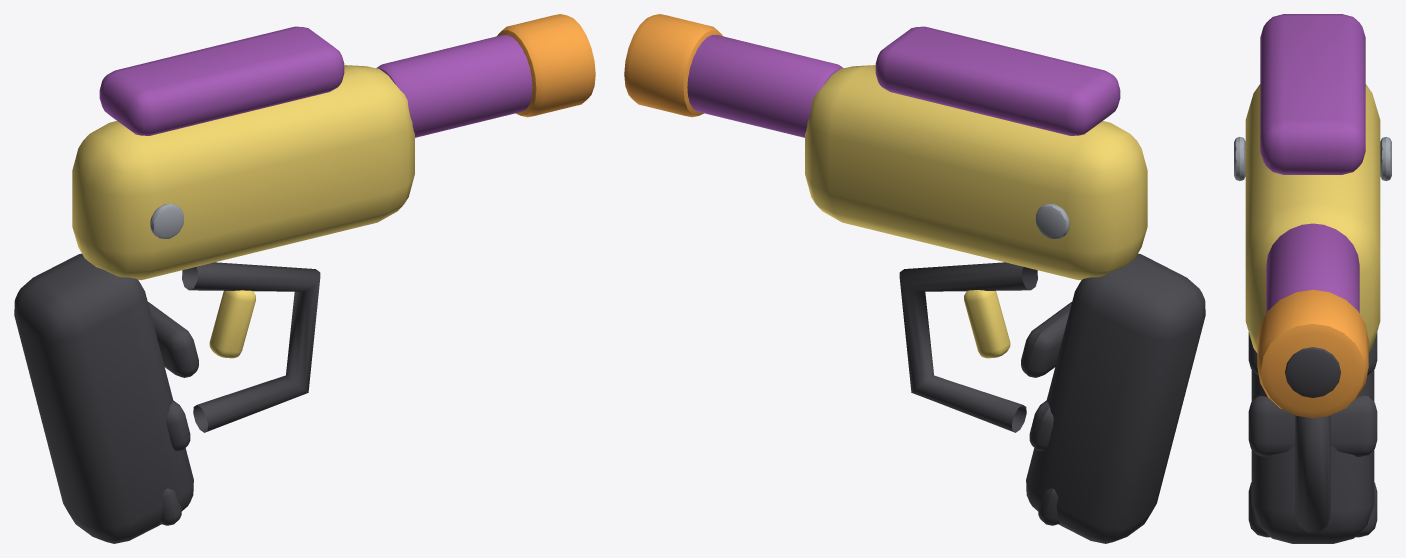
The model's file is dual.glb.
The picture shows the model from 3 angles, left to right: view 1: azimuth 30°, elevation 25°; view 2: azimuth 150°, elevation 25°; view 3: azimuth 270°, elevation 25°; orthographic projection. The views are drawn at different scales.
Visible parts, largest first — view 1: body, handle, top, barrel, guard, muzzle, trigger, bump0, bolt1, bump1; view 2: body, handle, top, barrel, guard, muzzle, trigger, bump0, bolt-1, bump1; view 3: top, body, muzzle, handle, barrel, bump1, guard, bore, bump2, bump0, bolt1, bolt-1.
Part boxes in pixels (x1,y1,x2,y2): body: (72,65,414,280); handle: (14,253,193,543); top: (99,26,344,135); barrel: (376,35,532,137); guard: (182,262,320,432); muzzle: (497,14,595,117); trigger: (209,290,255,358); bump0: (148,302,198,377); bolt1: (150,204,183,238); bump1: (166,400,190,450); body: (805,65,1147,280); handle: (1026,253,1205,543); top: (875,26,1120,135); barrel: (687,35,843,137); guard: (899,262,1037,432); muzzle: (624,14,722,117); trigger: (964,290,1010,358); bump0: (1021,302,1071,377); bolt-1: (1036,204,1069,238); bump1: (1029,400,1053,450); top: (1260,14,1365,174); body: (1245,84,1380,352); muzzle: (1257,289,1368,418); handle: (1251,370,1374,543); barrel: (1266,223,1359,313); bump1: (1248,395,1377,456); guard: (1295,415,1330,532); bore: (1285,347,1340,397); bump2: (1248,482,1377,537); bump0: (1248,332,1377,375); bolt1: (1234,137,1245,180); bolt-1: (1380,137,1391,180).
Size of the model in its own units: 0.2576 by 0.1989 by 0.054.
